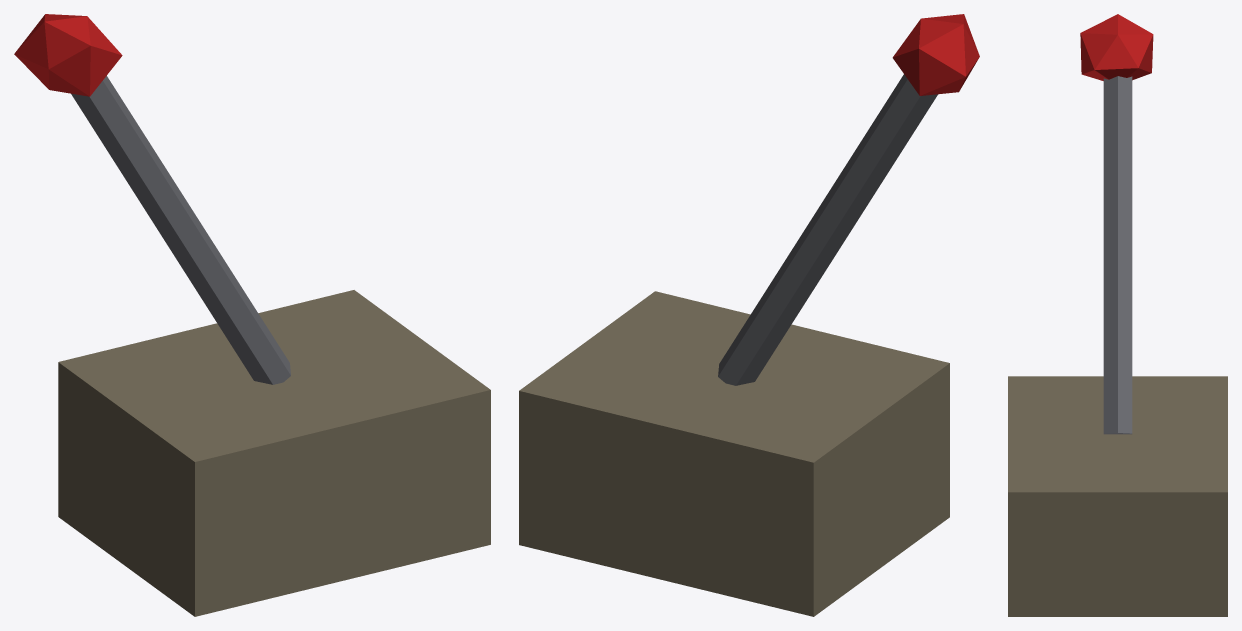
Rendered from lever.glb.
The picture shows the model from 3 angles, left to right: view 1: azimuth 30°, elevation 25°; view 2: azimuth 150°, elevation 25°; view 3: azimuth 270°, elevation 25°; orthographic projection. The views are drawn at different scales.
Parts seen in each view (by area): view 1: stone_temple_dark-col, Handle_metal, Handle_fabric_red; view 2: stone_temple_dark-col, Handle_metal, Handle_fabric_red; view 3: stone_temple_dark-col, Handle_metal, Handle_fabric_red.
Part boxes in pixels (box(x1,y1,x2,y2)): stone_temple_dark-col: box(58, 290, 490, 616); Handle_metal: box(71, 76, 290, 384); Handle_fabric_red: box(14, 14, 122, 96); stone_temple_dark-col: box(519, 291, 949, 616); Handle_metal: box(718, 74, 937, 385); Handle_fabric_red: box(892, 14, 979, 95); stone_temple_dark-col: box(1008, 376, 1227, 616); Handle_metal: box(1103, 76, 1132, 434); Handle_fabric_red: box(1080, 14, 1153, 80).
Bounding box in the file's own units: 0.6663 × 0.9125 × 0.4.
